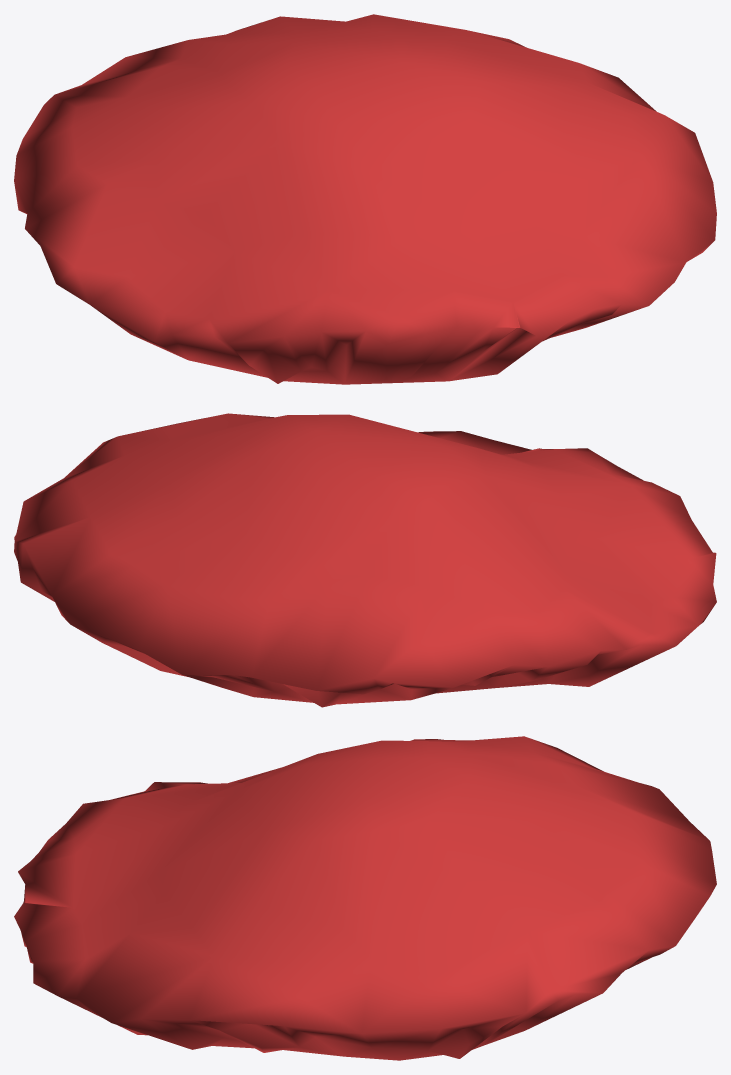
The model's file is SM_mushroom_red_04.fbx.
3 views of the same model, one above another, from view 1: azimuth 30°, elevation 25°; view 2: azimuth 150°, elevation 25°; view 3: azimuth 270°, elevation 25° (orthographic).
Visible parts, largest first — view 1: mushroom_red_04; view 2: mushroom_red_04; view 3: mushroom_red_04.
Part boxes in pixels (bbox=[...]): mushroom_red_04: bbox=[14, 14, 716, 384]; mushroom_red_04: bbox=[14, 413, 716, 707]; mushroom_red_04: bbox=[14, 736, 716, 1060].
Size of the model in its own units: 405 by 151 by 404.
